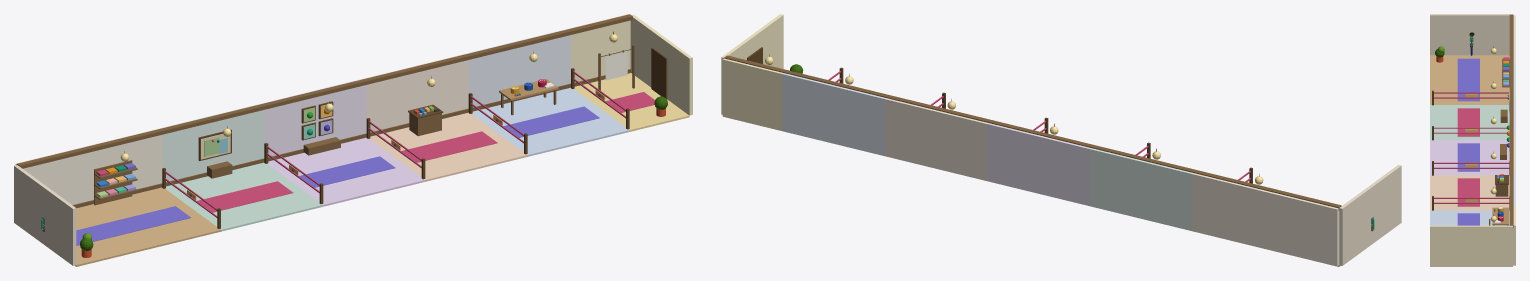
Rendered from corridor.glb.
The picture shows the model from 3 angles, left to right: view 1: azimuth 30°, elevation 25°; view 2: azimuth 150°, elevation 25°; view 3: azimuth 270°, elevation 25°; orthographic projection. The views are drawn at different scales.
Visible parts, largest first — view 1: floor0, wall3, floor4, wall0, floor1, floor2, wall4, beam, floor3, wall1, wall2, wall_start (+15 smaller); view 2: wall0, wall1, wall3, wall4, wall2, wall_start, wall5, beam, wall_end; view 3: wall_end, wall_start, floor0, floor1, floor2, floor3, beam, rug0, floor4, rug1, rug3, rug2 (+20 smaller).
Part boxes in pixels (<box>): floor0: <box>75,187,221,266</box>; wall3: <box>365,53,468,132</box>; floor4: <box>472,87,629,156</box>; wall0: <box>15,128,162,204</box>; floor1: <box>165,162,323,231</box>; floor2: <box>267,137,425,206</box>; wall4: <box>467,28,570,107</box>; beam: <box>17,14,632,168</box>; floor3: <box>369,112,527,181</box>; wall1: <box>160,103,264,182</box>; wall2: <box>263,78,366,157</box>; wall_start: <box>14,165,76,265</box>; wall0: <box>1192,173,1339,266</box>; wall1: <box>1089,148,1192,230</box>; wall3: <box>885,98,988,180</box>; wall4: <box>782,73,885,156</box>; wall2: <box>987,123,1090,205</box>; wall_start: <box>1339,165,1401,265</box>; wall5: <box>722,58,783,130</box>; beam: <box>724,55,1341,210</box>; wall_end: <box>721,14,783,114</box>; wall_end: <box>1430,225,1512,266</box>; wall_start: <box>1430,14,1512,55</box>; floor0: <box>1430,55,1509,104</box>; floor1: <box>1430,105,1509,139</box>; floor2: <box>1430,140,1509,174</box>; floor3: <box>1430,175,1509,210</box>; beam: <box>1509,14,1513,227</box>; rug0: <box>1457,58,1479,101</box>; floor4: <box>1430,210,1509,225</box>; rug1: <box>1457,108,1479,136</box>; rug3: <box>1457,178,1479,206</box>; rug2: <box>1457,143,1479,171</box>.
Bounding box in the file's own units: 36.53 × 3.37 × 6.2.
